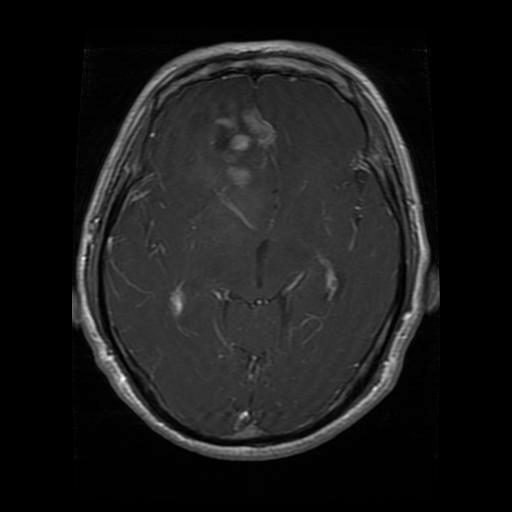Tumour-Glioma: (216, 117, 280, 197)
